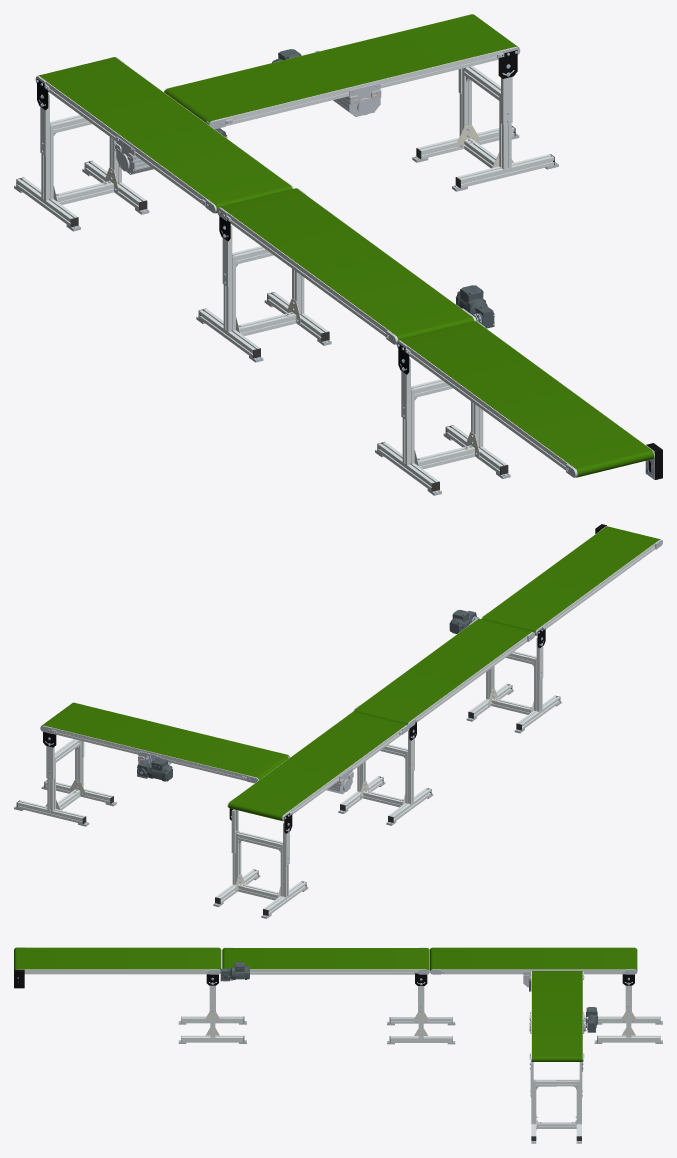
The model's file is belt conveyors.fbx.
3 renders of one model, top to bottom at view 1: azimuth 30°, elevation 25°; view 2: azimuth 150°, elevation 25°; view 3: azimuth 270°, elevation 25°, orthographic. The views are drawn at different scales.
Parts seen in each view (by area): view 1: 05-10274069-DE1_Simplify_1.001, 05-10274069-DE1_Simplify_1.003, 05-10274069-DE1_Simplify_1.002, 05-10274069-DE1_Simplify_1, 05-10029156-DE1_Shrinkwrap_1.003, 05-10029156-DE1_Shrinkwrap_1.002, 05-10029156-DE1_Shrinkwrap_1.001, 05-10029156-DE1_Shrinkwrap_1; view 2: 05-10274069-DE1_Simplify_1.001, 05-10274069-DE1_Simplify_1, 05-10274069-DE1_Simplify_1.003, 05-10274069-DE1_Simplify_1.002, 05-10029156-DE1_Shrinkwrap_1, 05-10029156-DE1_Shrinkwrap_1.003, 05-10029156-DE1_Shrinkwrap_1.002, 05-10029156-DE1_Shrinkwrap_1.001; view 3: 05-10274069-DE1_Simplify_1.002, 05-10274069-DE1_Simplify_1.003, 05-10274069-DE1_Simplify_1, 05-10274069-DE1_Simplify_1.001, 05-10029156-DE1_Shrinkwrap_1.003, 05-10029156-DE1_Shrinkwrap_1.002, 05-10029156-DE1_Shrinkwrap_1, 05-10029156-DE1_Shrinkwrap_1.001.
Part boxes in pixels (x1,y1,x2,y2): 05-10274069-DE1_Simplify_1.001: (164, 14, 520, 129); 05-10274069-DE1_Simplify_1.003: (217, 188, 494, 344); 05-10274069-DE1_Simplify_1.002: (396, 321, 662, 479); 05-10274069-DE1_Simplify_1: (35, 57, 293, 213); 05-10029156-DE1_Shrinkwrap_1.003: (412, 50, 558, 191); 05-10029156-DE1_Shrinkwrap_1.002: (375, 343, 510, 495); 05-10029156-DE1_Shrinkwrap_1.001: (196, 211, 331, 362); 05-10029156-DE1_Shrinkwrap_1: (14, 79, 149, 231); 05-10274069-DE1_Simplify_1.001: (40, 702, 290, 783); 05-10274069-DE1_Simplify_1: (227, 711, 408, 821); 05-10274069-DE1_Simplify_1.003: (353, 609, 534, 728); 05-10274069-DE1_Simplify_1.002: (481, 524, 662, 635); 05-10029156-DE1_Shrinkwrap_1: (213, 808, 308, 918); 05-10029156-DE1_Shrinkwrap_1.003: (14, 732, 116, 826); 05-10029156-DE1_Shrinkwrap_1.002: (466, 627, 561, 733); 05-10029156-DE1_Shrinkwrap_1.001: (338, 722, 433, 825); 05-10274069-DE1_Simplify_1.002: (14, 947, 221, 988); 05-10274069-DE1_Simplify_1.003: (220, 947, 429, 981); 05-10274069-DE1_Simplify_1: (430, 947, 637, 991); 05-10274069-DE1_Simplify_1.001: (529, 971, 597, 1061); 05-10029156-DE1_Shrinkwrap_1.003: (529, 1054, 583, 1143); 05-10029156-DE1_Shrinkwrap_1.002: (178, 971, 246, 1043); 05-10029156-DE1_Shrinkwrap_1: (594, 971, 662, 1043); 05-10029156-DE1_Shrinkwrap_1.001: (387, 972, 455, 1044).
Size of the model in its own units: 279 by 89.45 by 628.
